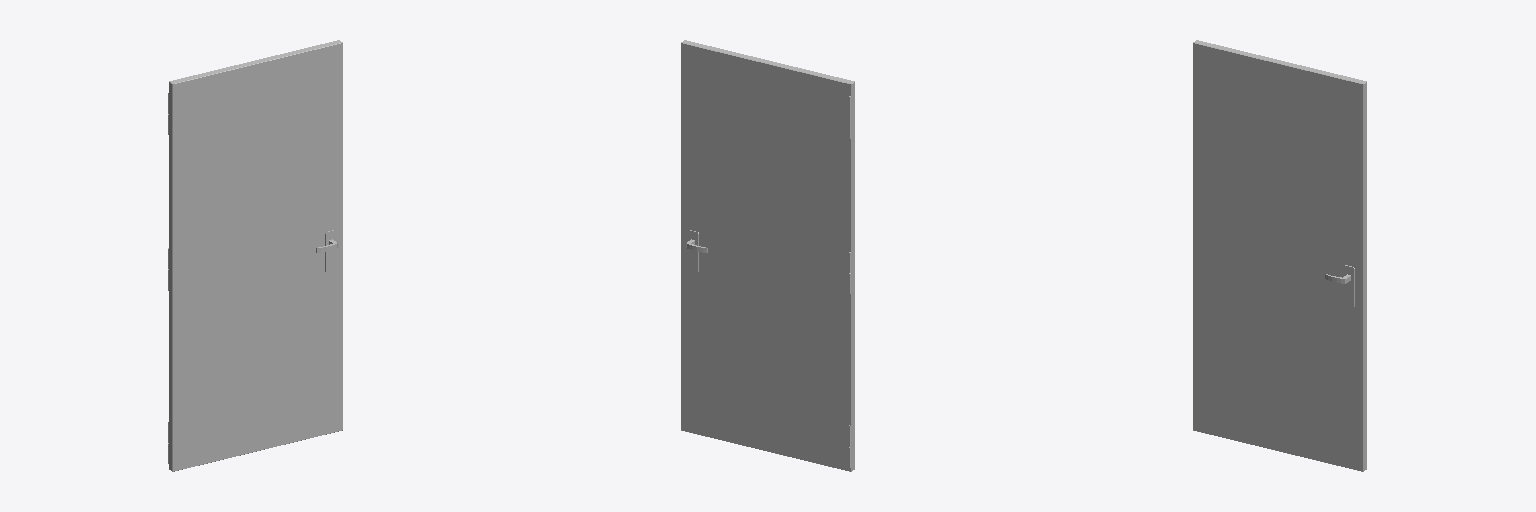
File: door_front.obj
3 views of the same model, side by side, from view 1: azimuth 30°, elevation 25°; view 2: azimuth 150°, elevation 25°; view 3: azimuth 330°, elevation 25° (orthographic).
Parts seen in each view (by area): view 1: door_front; view 2: door_front; view 3: door_front.
Part boxes in pixels (left/top/right/bottom): door_front: left=168, top=40, right=342, bottom=471; door_front: left=681, top=40, right=854, bottom=471; door_front: left=1193, top=40, right=1366, bottom=471.
Bounding box in the file's own units: 0.9565 × 2.08 × 0.1761.